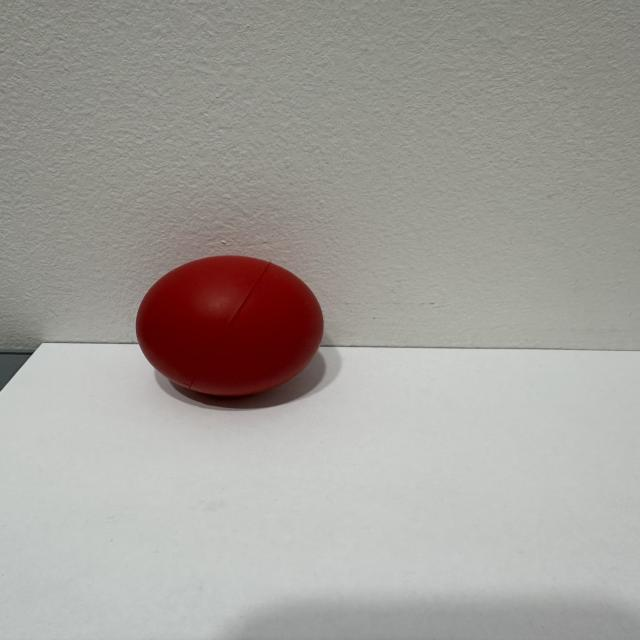red_ball: (124, 227, 359, 441)
